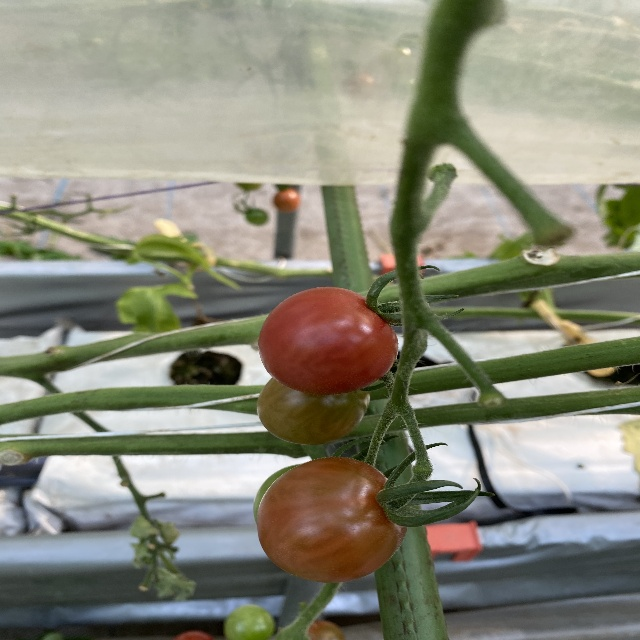l_fully_ripened: (257, 286, 401, 395)
l_half_ripened: (256, 455, 406, 583), (256, 378, 369, 445)
